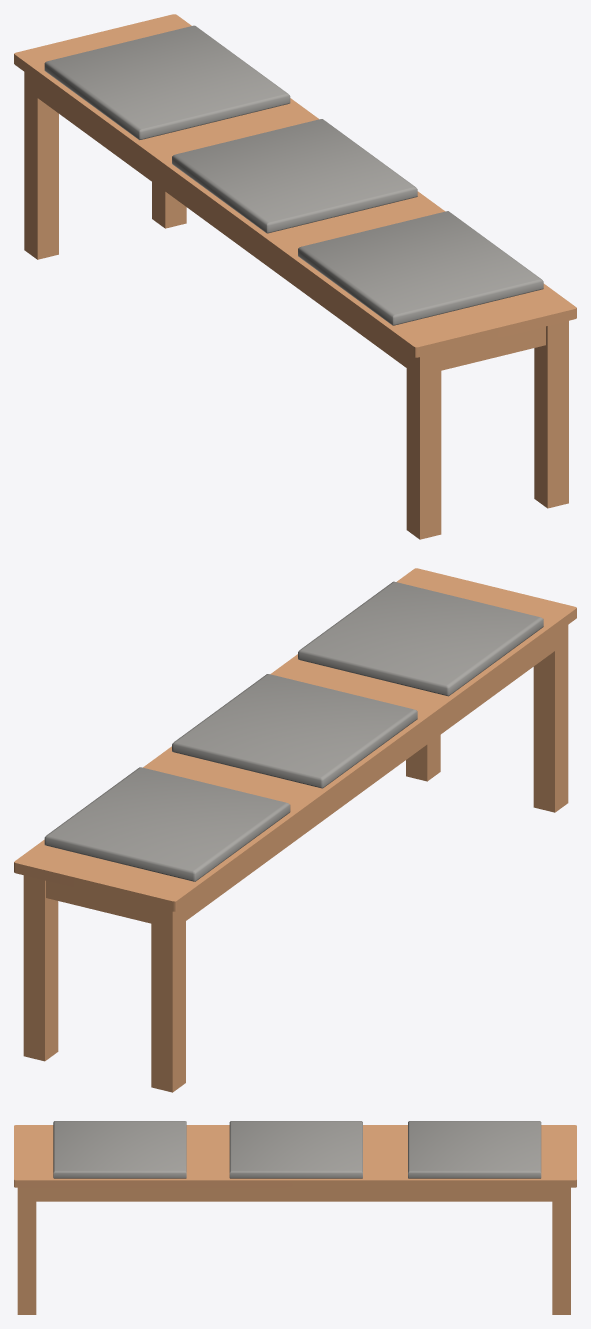
File: MSH_EstanciaRoof_Banca.fbx
3 views of the same model, one above another, from view 1: azimuth 30°, elevation 25°; view 2: azimuth 150°, elevation 25°; view 3: azimuth 270°, elevation 25° (orthographic). The views are drawn at different scales.
Parts seen in each view (by area): view 1: MSH_EstanciaRoof_Banca, MSH_EstanciaRoof_BancaCojines; view 2: MSH_EstanciaRoof_Banca, MSH_EstanciaRoof_BancaCojines; view 3: MSH_EstanciaRoof_Banca, MSH_EstanciaRoof_BancaCojines.
Part boxes in pixels (left/top/right/bottom): MSH_EstanciaRoof_Banca: left=14, top=14, right=576, bottom=539; MSH_EstanciaRoof_BancaCojines: left=44, top=25, right=543, bottom=325; MSH_EstanciaRoof_Banca: left=14, top=568, right=576, bottom=1092; MSH_EstanciaRoof_BancaCojines: left=44, top=581, right=543, bottom=881; MSH_EstanciaRoof_Banca: left=14, top=1125, right=576, bottom=1314; MSH_EstanciaRoof_BancaCojines: left=53, top=1121, right=541, bottom=1178.
Size of the model in its own units: 56.93 by 68.79 by 245.
